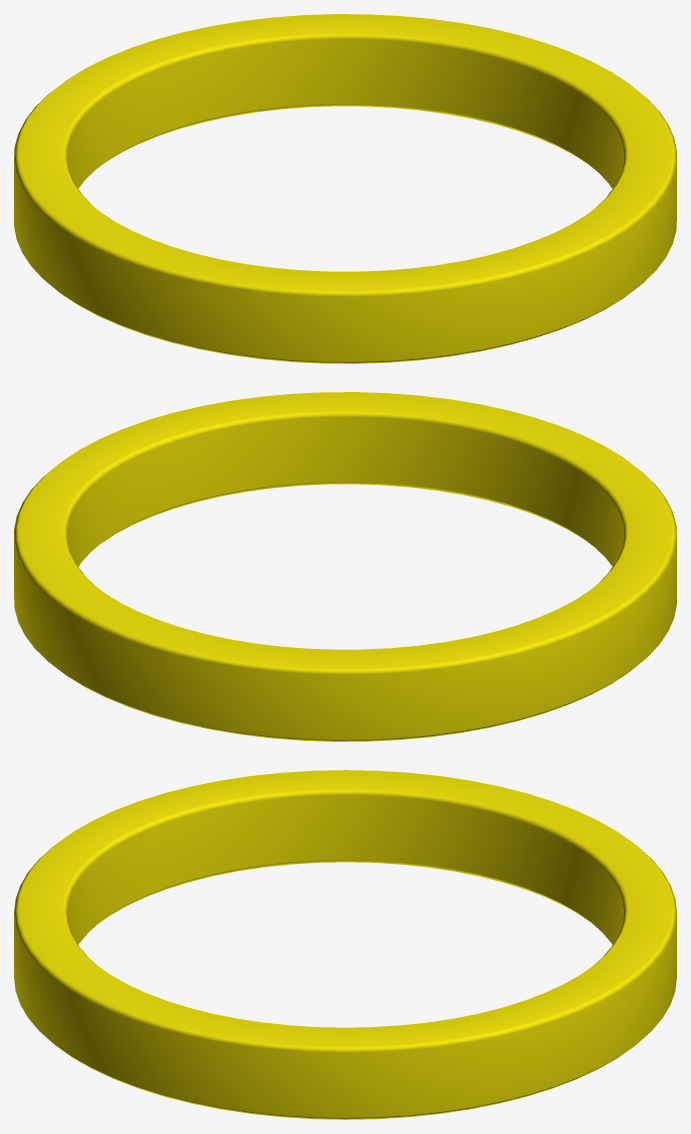
3 views of the same model, one above another, from view 1: azimuth 30°, elevation 25°; view 2: azimuth 150°, elevation 25°; view 3: azimuth 270°, elevation 25° (orthographic).
Parts seen in each view (by area): view 1: seal_body; view 2: seal_body; view 3: seal_body.
Boxes of the visible parts, x1=… form: seal_body: x1=14, y1=14, x2=676, y2=363; seal_body: x1=14, y1=392, x2=676, y2=741; seal_body: x1=14, y1=770, x2=676, y2=1119.
Size of the model in its own units: 0.0776 by 0.00952 by 0.0776.
